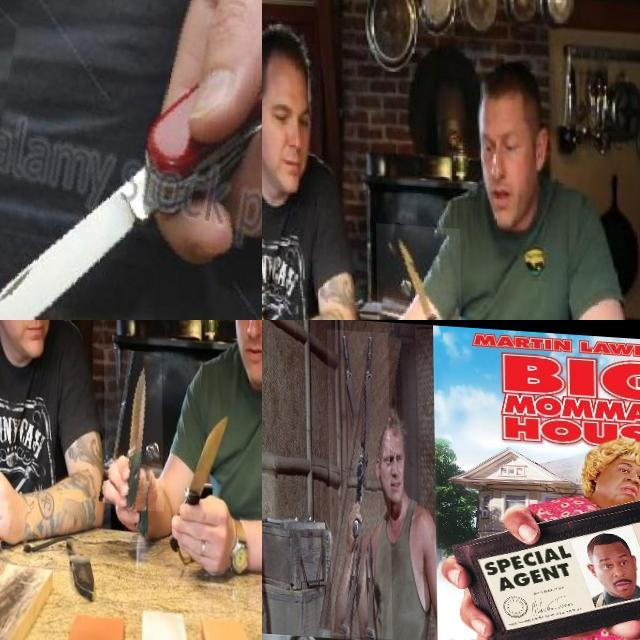-: (0, 0, 262, 320), (165, 398, 237, 540), (102, 344, 162, 506), (375, 219, 461, 320)
gun-knife-thesis - v11 Yolov5 augmented: (327, 327, 392, 636)
